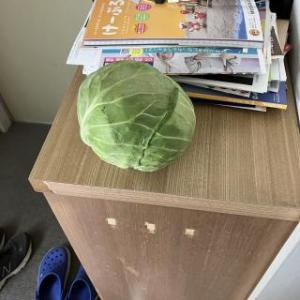cabbage: (76, 58, 196, 174)
